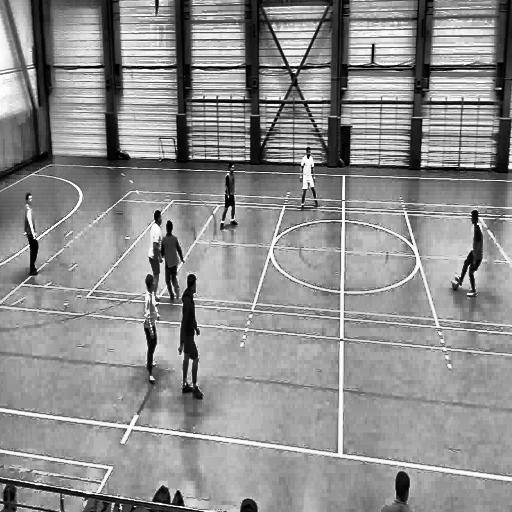ball: (451, 277, 460, 295)
player: (455, 208, 484, 303)
